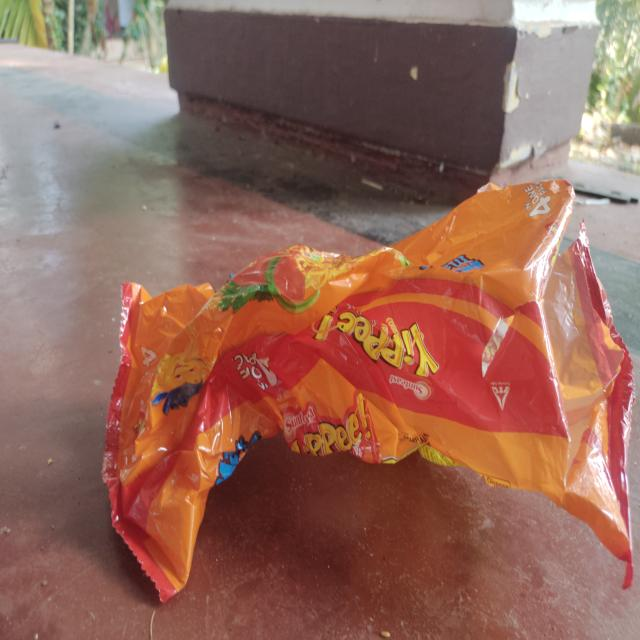plastic: (101, 176, 635, 600)
